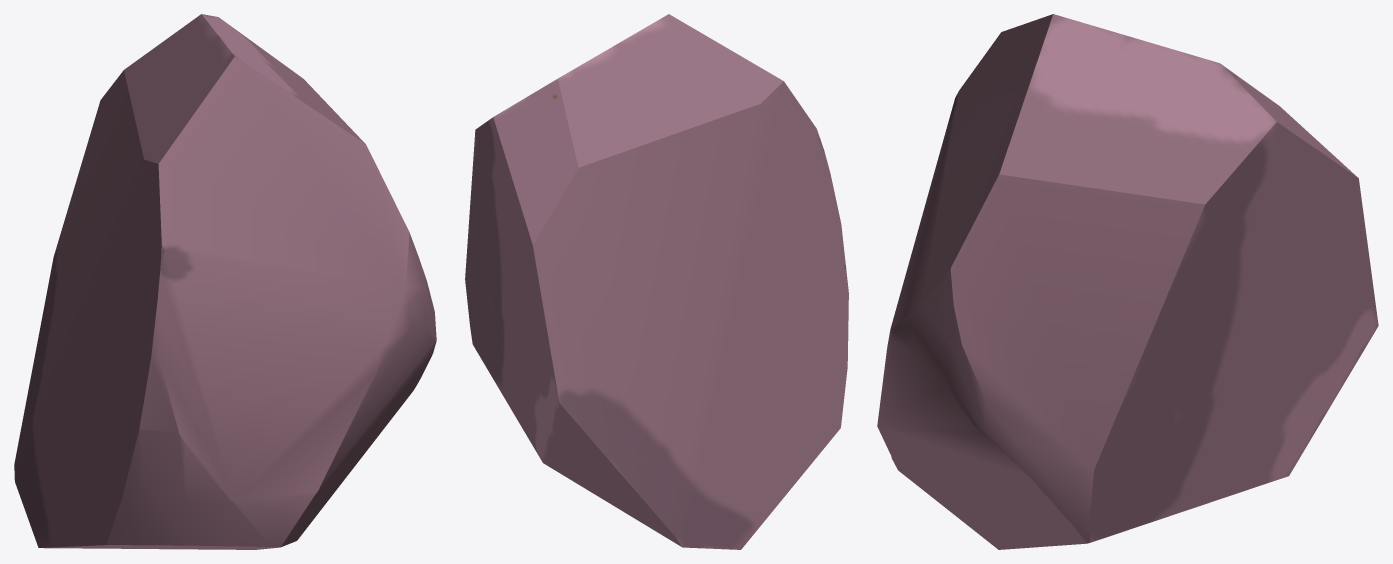
Rendered from Pedra1.fbx.
3 renders of one model, left to right at view 1: azimuth 30°, elevation 25°; view 2: azimuth 150°, elevation 25°; view 3: azimuth 270°, elevation 25°, orthographic. The views are drawn at different scales.
Parts seen in each view (by area): view 1: Pedra_1; view 2: Pedra_1; view 3: Pedra_1.
Part boxes in pixels (box(x1,y1,x2,y2)): Pedra_1: box(14, 14, 436, 549); Pedra_1: box(465, 14, 848, 549); Pedra_1: box(877, 14, 1378, 549).
Size of the model in its own units: 175 by 234 by 195.
